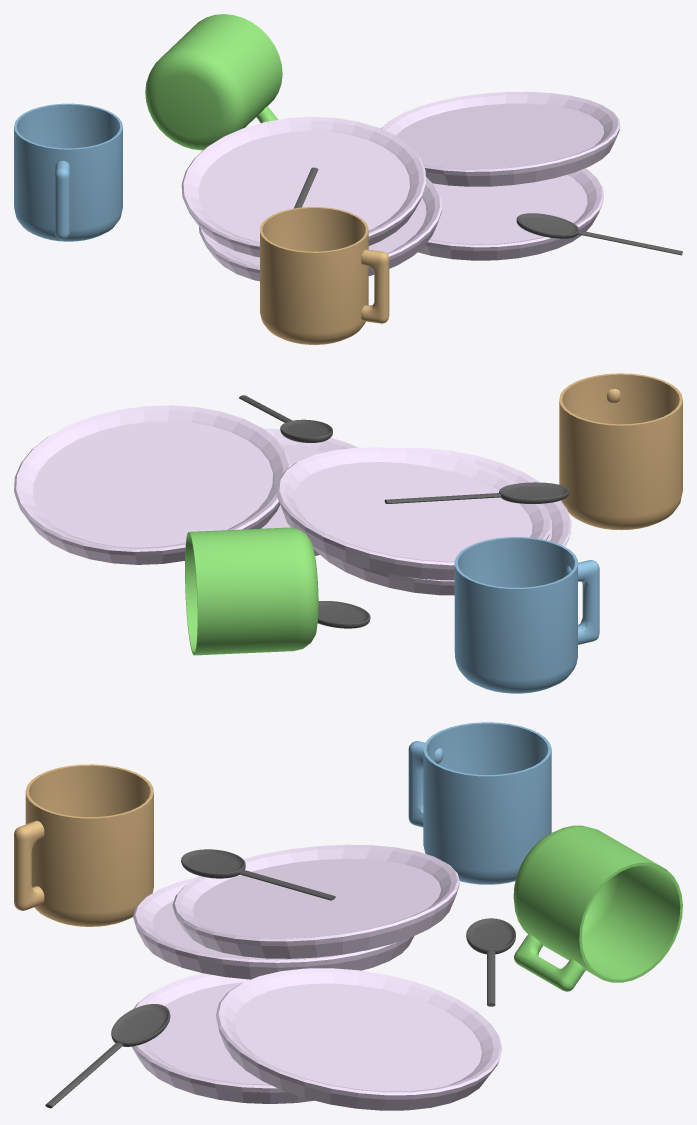
File: dishes_04.glb
The picture shows the model from 3 angles, top to bottom: view 1: azimuth 30°, elevation 25°; view 2: azimuth 150°, elevation 25°; view 3: azimuth 270°, elevation 25°; orthographic projection. The views are drawn at different scales.
Visible parts, largest first — view 1: Cylinder.120; view 2: Cylinder.120; view 3: Cylinder.120.
Part boxes in pixels (x1,y1,x2,y2): Cylinder.120: [14, 14, 682, 344]; Cylinder.120: [14, 373, 682, 693]; Cylinder.120: [14, 722, 682, 1110].
Size of the model in its own units: 0.3909 by 0.0784 by 0.3642.
